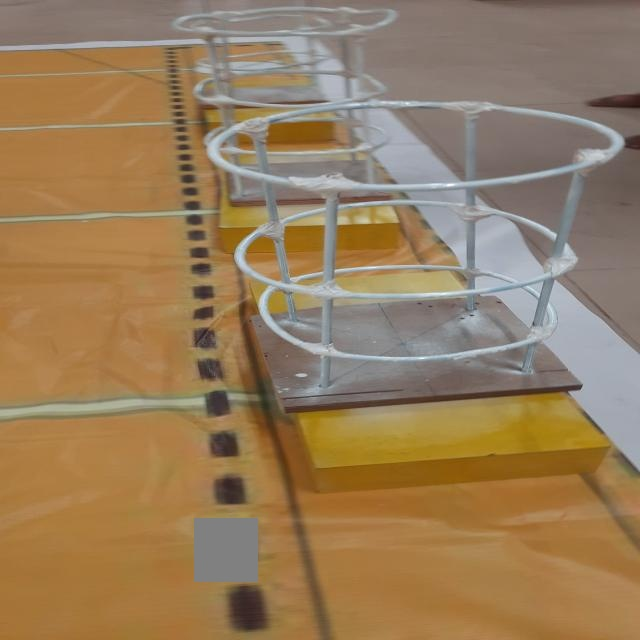silo: (170, 90, 616, 418), (139, 0, 432, 201)
